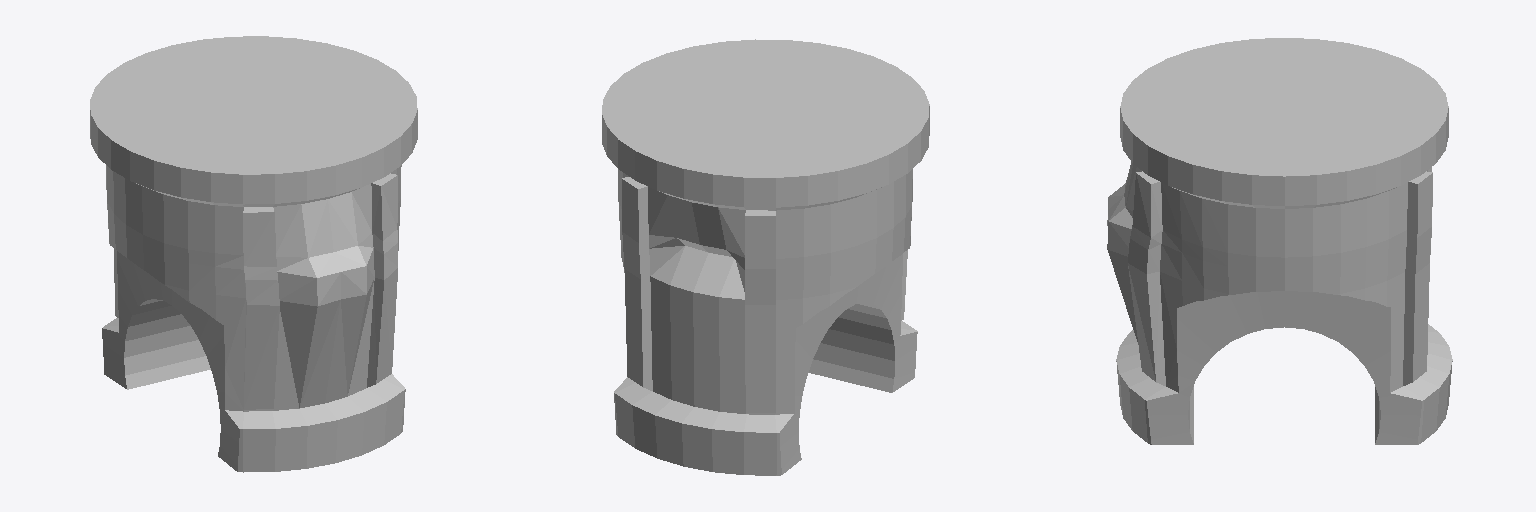
File: body.obj
3 views of the same model, side by side, from view 1: azimuth 30°, elevation 25°; view 2: azimuth 150°, elevation 25°; view 3: azimuth 270°, elevation 25° (orthographic).
Size of the model in its own units: 1 by 1 by 1.05.